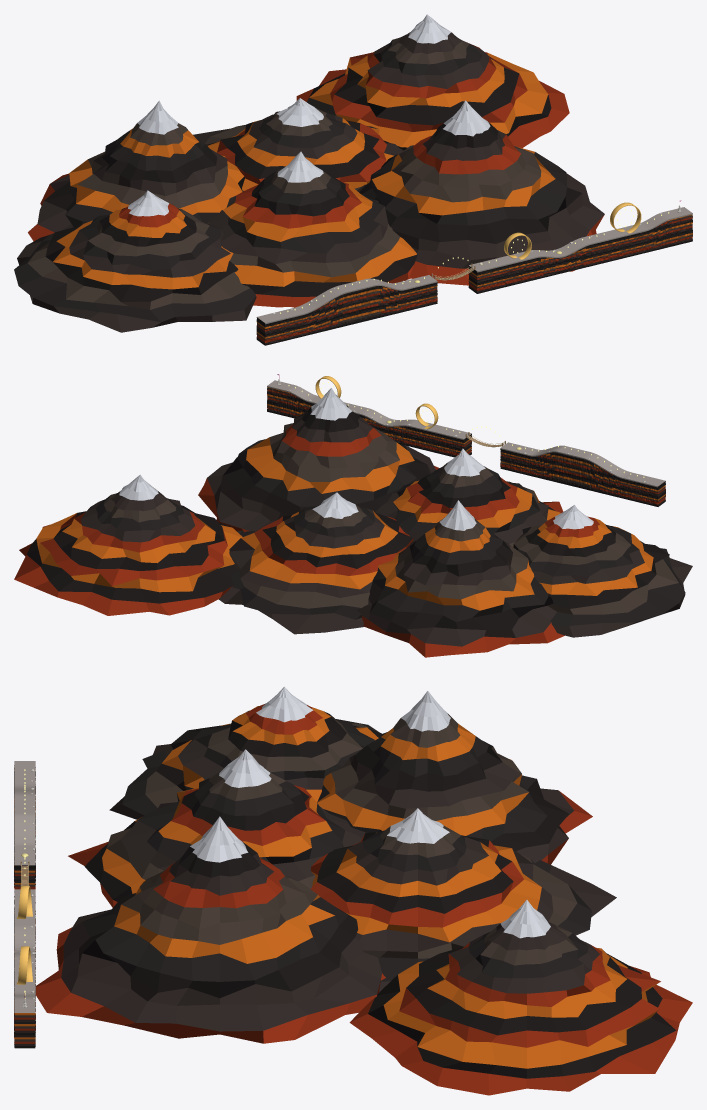
Rendered from nivel4.glb.
3 views of the same model, one above another, from view 1: azimuth 30°, elevation 25°; view 2: azimuth 150°, elevation 25°; view 3: azimuth 270°, elevation 25° (orthographic). The views are drawn at different scales.
Parts seen in each view (by area): view 1: SM_Fondo_Cerro.004, SM_Fondo_Cerro, SM_Fondo_Cerro.002, SM_Fondo_Cerro.005, SM_Fondo_Cerro.001, SM_Fondo_Cerro.003, SM_Tramo_B, SM_Tramo_A, SM_Tramo_B_Pasto, SM_Tramo_A_Pasto; view 2: SM_Fondo_Cerro.005, SM_Fondo_Cerro.001, SM_Fondo_Cerro.004, SM_Fondo_Cerro.003, SM_Fondo_Cerro, SM_Fondo_Cerro.002, SM_Tramo_A, SM_Tramo_B, SM_Tramo_B_Pasto, SM_Tramo_A_Pasto; view 3: SM_Fondo_Cerro.004, SM_Fondo_Cerro.005, SM_Fondo_Cerro.003, SM_Fondo_Cerro.001, SM_Fondo_Cerro.002, SM_Fondo_Cerro, SM_Tramo_A_Pasto, SM_Tramo_B_Pasto, SM_Tramo_B.
Part boxes in pixels (x1,y1,x2,y2): SM_Fondo_Cerro.004: (357, 100, 604, 285); SM_Fondo_Cerro: (14, 190, 256, 332); SM_Fondo_Cerro.002: (206, 151, 417, 307); SM_Fondo_Cerro.005: (296, 14, 569, 149); SM_Fondo_Cerro.001: (28, 100, 244, 241); SM_Fondo_Cerro.003: (193, 98, 403, 191); SM_Tramo_B: (468, 214, 692, 293); SM_Tramo_A: (256, 282, 437, 345); SM_Tramo_B_Pasto: (469, 207, 692, 272); SM_Tramo_A_Pasto: (256, 275, 437, 324); SM_Fondo_Cerro.005: (14, 474, 242, 615); SM_Fondo_Cerro.001: (357, 500, 564, 657); SM_Fondo_Cerro.004: (198, 388, 439, 532); SM_Fondo_Cerro.003: (218, 492, 413, 634); SM_Fondo_Cerro: (513, 505, 692, 637); SM_Fondo_Cerro.002: (375, 448, 563, 546); SM_Tramo_A: (500, 449, 665, 506); SM_Tramo_B: (267, 387, 471, 457); SM_Tramo_B_Pasto: (267, 380, 471, 439); SM_Tramo_A_Pasto: (500, 442, 665, 487); SM_Fondo_Cerro.004: (35, 816, 385, 1043); SM_Fondo_Cerro.005: (349, 899, 692, 1095); SM_Fondo_Cerro.003: (310, 808, 616, 992); SM_Fondo_Cerro.001: (317, 691, 592, 864); SM_Fondo_Cerro.002: (68, 749, 366, 907); SM_Fondo_Cerro: (109, 686, 382, 819); SM_Tramo_A_Pasto: (14, 761, 35, 865); SM_Tramo_B_Pasto: (14, 889, 35, 1012); SM_Tramo_B: (14, 896, 35, 1048).
Bounding box in the file's own units: 342 × 65.79 × 263.
